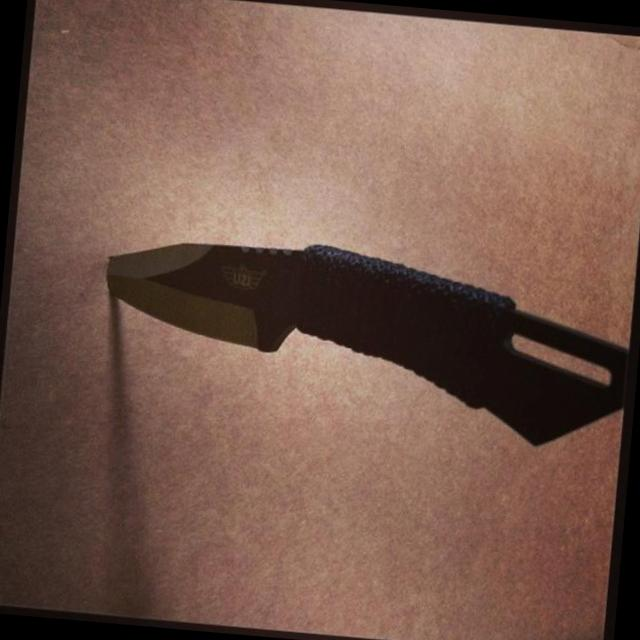Knife: (107, 243, 626, 444)
